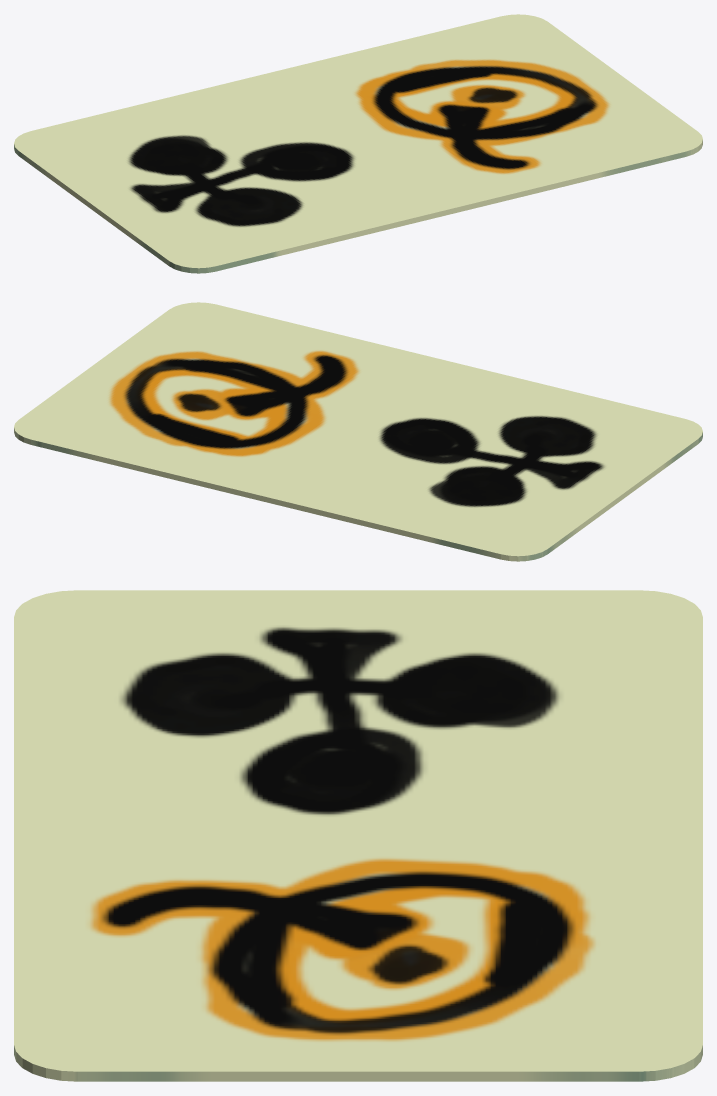
The picture shows the model from 3 angles, top to bottom: view 1: azimuth 30°, elevation 25°; view 2: azimuth 150°, elevation 25°; view 3: azimuth 270°, elevation 25°; orthographic projection. The views are drawn at different scales.
Visible parts, largest first — view 1: Card; view 2: Card; view 3: Card.
Part boxes in pixels (x1,y1,x2,y2): Card: (14,14,702,273); Card: (14,302,702,561); Card: (14,590,702,1081).
Bounding box in the file's own units: 0.6456 × 0.3904 × 0.00625.
Materials: 1 (1 with a texture image).
